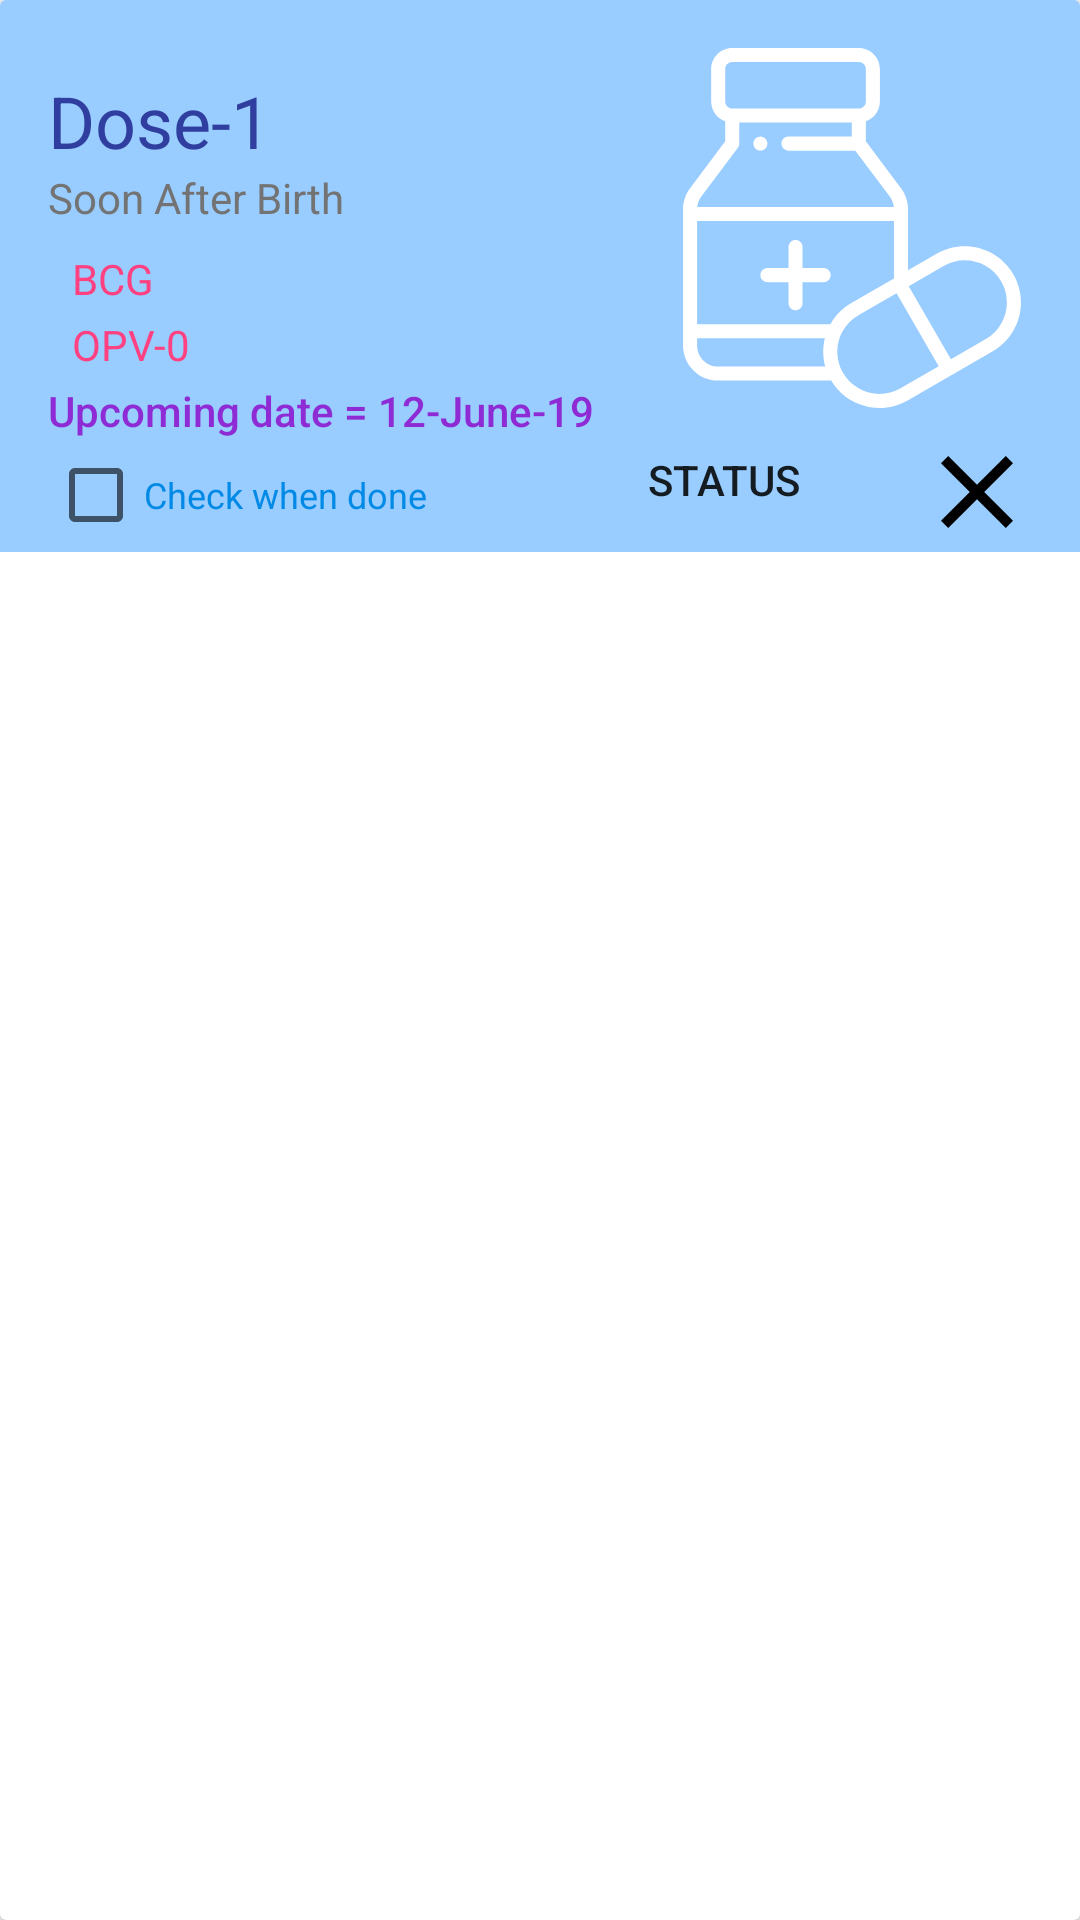

Screen size 1080×1920. Icon name, then its center in pixels as (x=x, y=y):
close: (x=977, y=492)
medicine: (x=852, y=228)
